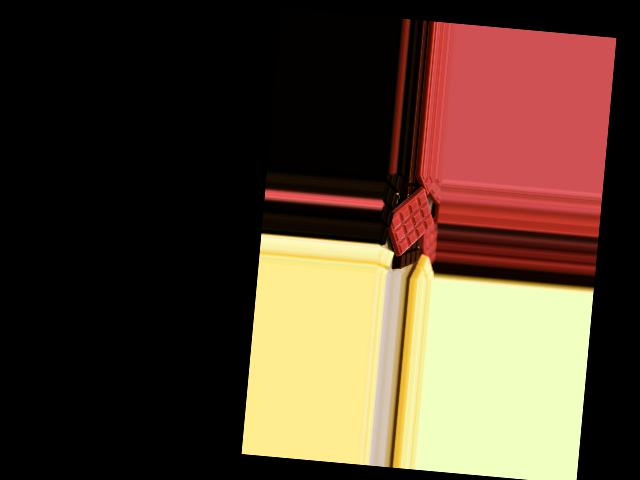chocolate: (377, 183, 438, 258)
